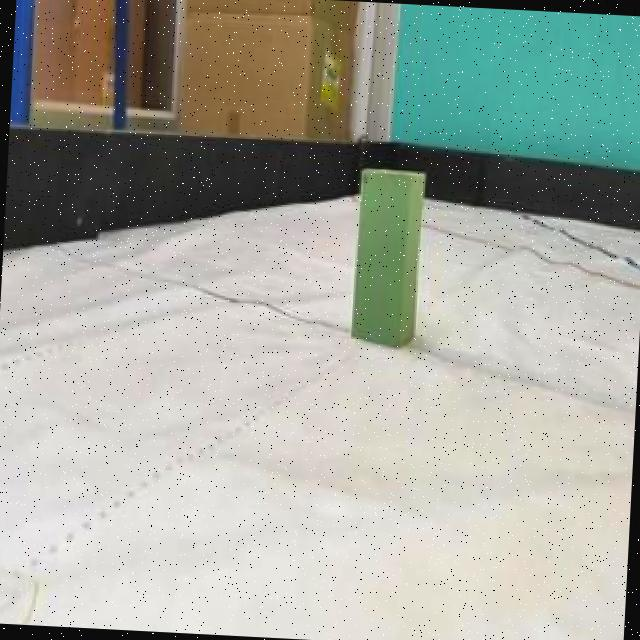greenbox: (351, 165, 426, 350)
